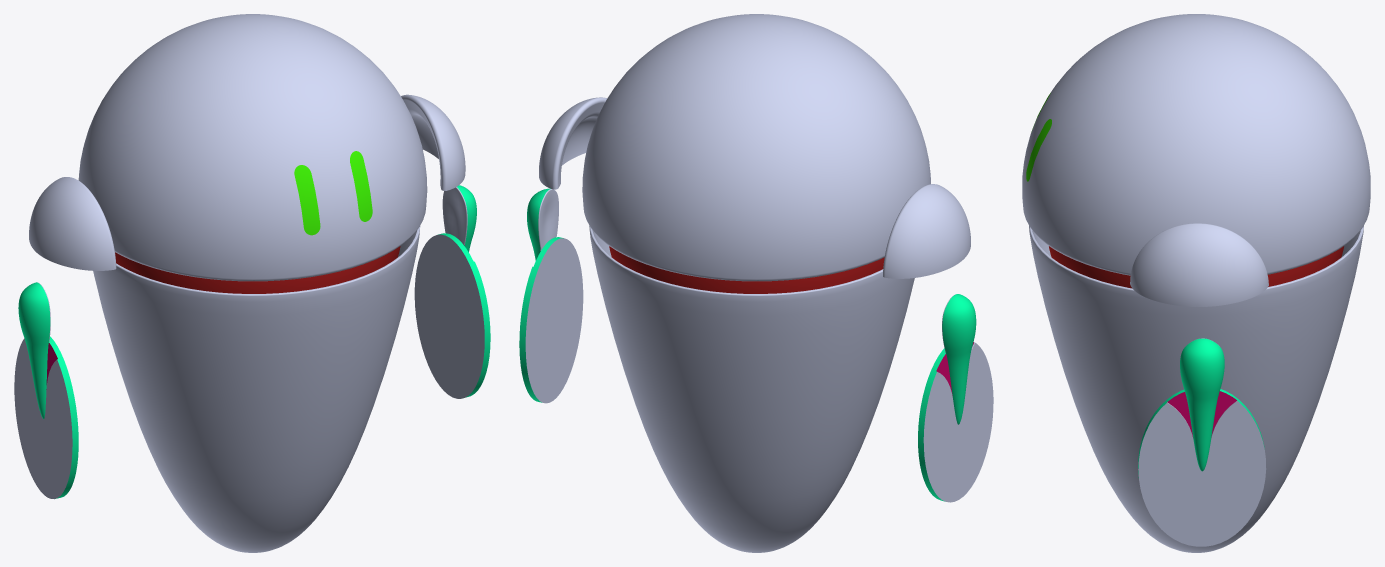
Rendered from nono.fbx.
3 views of the same model, side by side, from view 1: azimuth 30°, elevation 25°; view 2: azimuth 150°, elevation 25°; view 3: azimuth 270°, elevation 25° (orthographic).
Parts seen in each view (by area): view 1: 3DGeom~23, Body_1_2, 3DGeom~39_2, Body_1_3, 3DGeom~39, 3DGeom~40, Body_2, Body_1, 3DGeom~24, 3DGeom~40_2; view 2: 3DGeom~23, Body_1_2, 3DGeom~39_2, 3DGeom~39, Body_1_3, 3DGeom~40, Body_2, Body_1, 3DGeom~40_2; view 3: 3DGeom~23, Body_1_2, 3DGeom~39_2, Body_1, 3DGeom~40_2, Body_2, 3DGeom~41_2, 3DGeom~24.
Boxes of the visible parts, left/top/right/bottom form: 3DGeom~23: left=78, top=14, right=427, bottom=281; Body_1_2: left=93, top=226, right=420, bottom=552; 3DGeom~39_2: left=414, top=187, right=484, bottom=398; Body_1_3: left=29, top=177, right=116, bottom=270; 3DGeom~39: left=14, top=283, right=72, bottom=498; 3DGeom~40: left=18, top=282, right=78, bottom=498; Body_2: left=115, top=246, right=400, bottom=293; Body_1: left=401, top=94, right=465, bottom=190; 3DGeom~24: left=294, top=151, right=372, bottom=235; 3DGeom~40_2: left=437, top=185, right=490, bottom=397; 3DGeom~23: left=582, top=14, right=930, bottom=281; Body_1_2: left=589, top=226, right=914, bottom=552; 3DGeom~39_2: left=525, top=189, right=583, bottom=403; 3DGeom~39: left=923, top=295, right=993, bottom=502; Body_1_3: left=883, top=184, right=970, bottom=278; 3DGeom~40: left=918, top=294, right=976, bottom=501; Body_2: left=609, top=246, right=884, bottom=293; Body_1: left=539, top=97, right=607, bottom=189; 3DGeom~40_2: left=519, top=188, right=563, bottom=402; 3DGeom~23: left=1022, top=14, right=1370, bottom=275; Body_1_2: left=1029, top=226, right=1363, bottom=552; 3DGeom~39_2: left=1138, top=338, right=1266, bottom=546; Body_1: left=1130, top=223, right=1268, bottom=306; 3DGeom~40_2: left=1138, top=338, right=1264, bottom=477; Body_2: left=1049, top=246, right=1343, bottom=288; 3DGeom~41_2: left=1167, top=391, right=1236, bottom=437; 3DGeom~24: left=1026, top=93, right=1051, bottom=181.
Size of the model in its own units: 0.4446 by 0.2996 by 0.4903.
